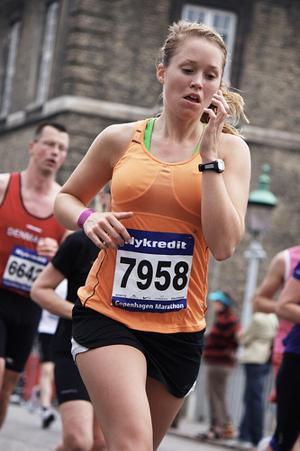person: (54, 21, 251, 450)
